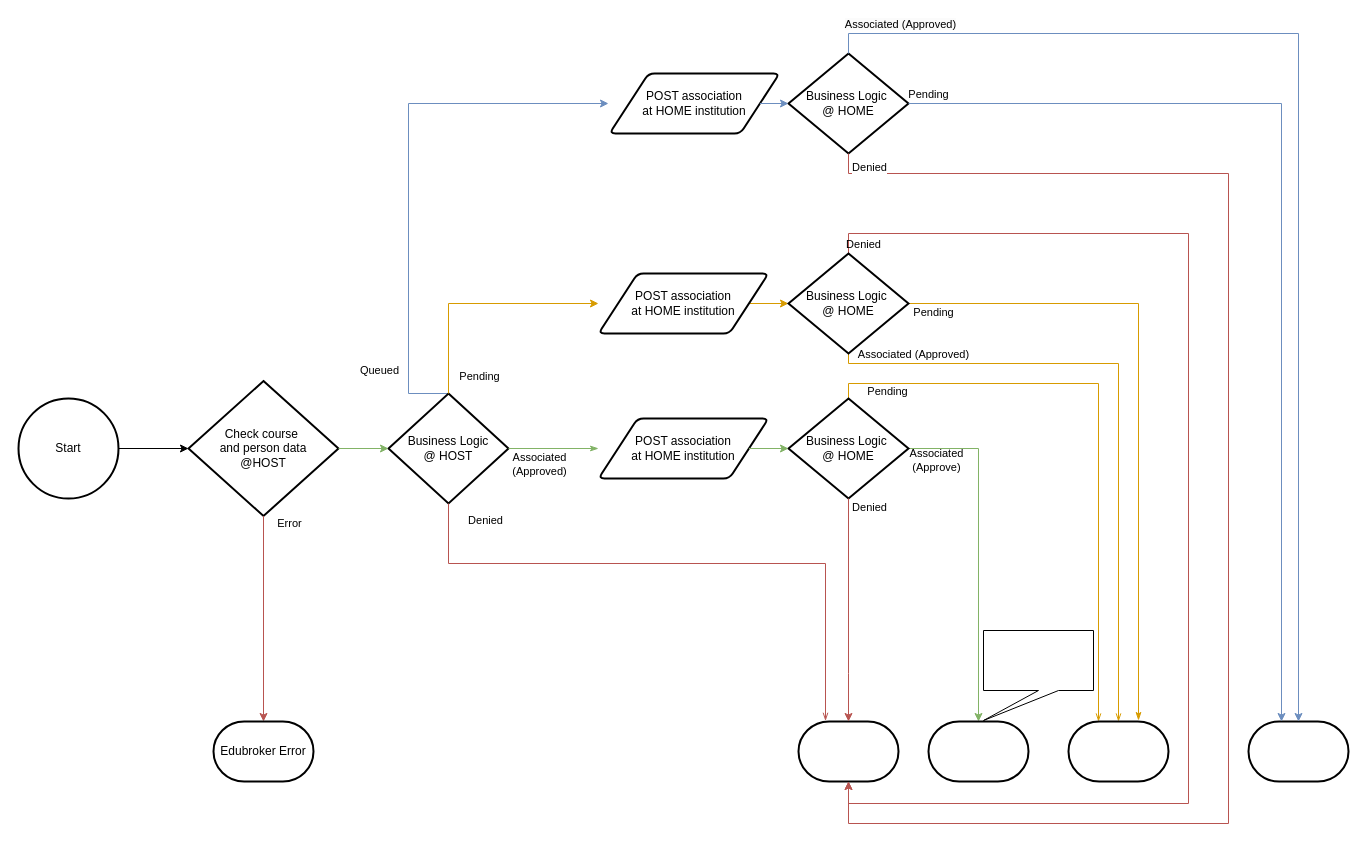
The diagram is 1366 pixels wide and 849 high, and some of its shapes have lost their labels. The centre of each missing label's shape, as x and y in pixels:
"Edubroker result Associated" belongs at (x=978, y=751).
"Edubroker result Denied" belongs at (x=848, y=751).
"Edubroker result Pending" belongs at (x=1118, y=751).
"Edubroker result Queued" belongs at (x=1298, y=751).
"enrollment can start if this state is reached" belongs at (x=1038, y=675).
